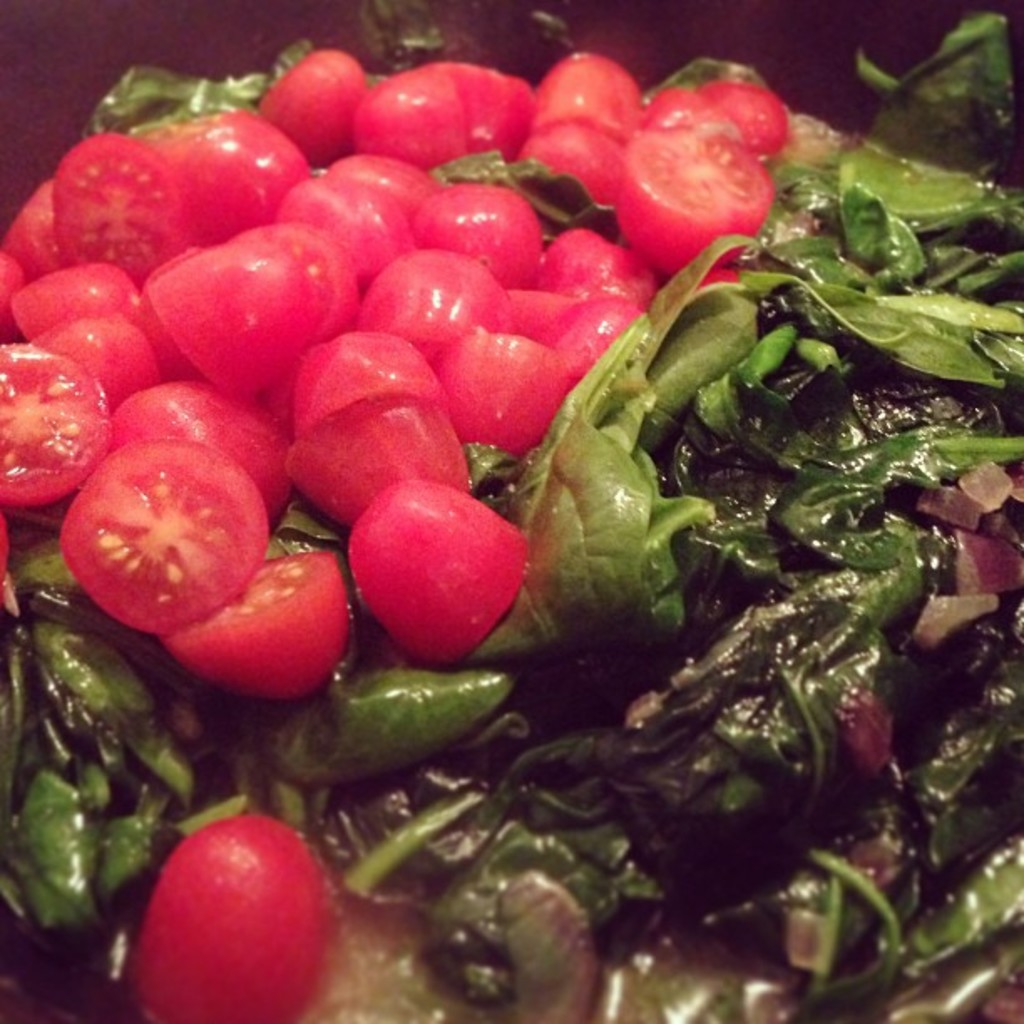Tomato: (0, 46, 791, 702), (140, 811, 329, 1022)
